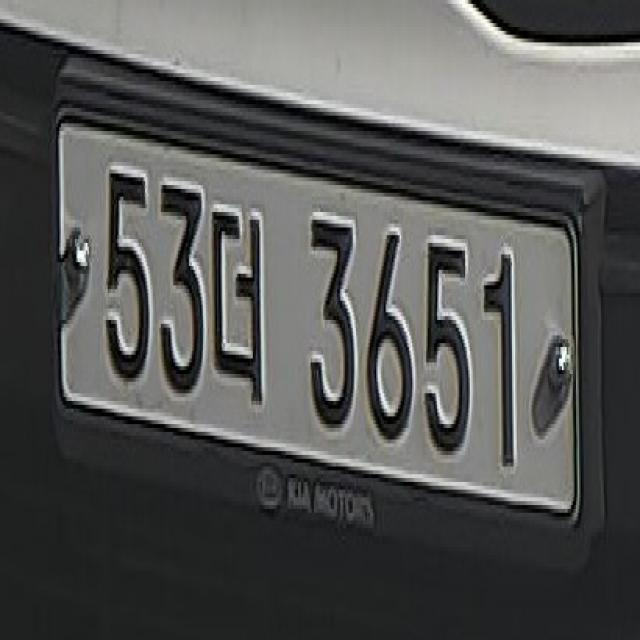1: (470, 204, 531, 502)
3: (303, 193, 362, 459), (153, 178, 209, 416)
5: (423, 224, 478, 470), (97, 162, 156, 389)
6: (368, 235, 417, 455)
deo: (203, 196, 279, 432)
license_plate: (45, 81, 587, 536)
